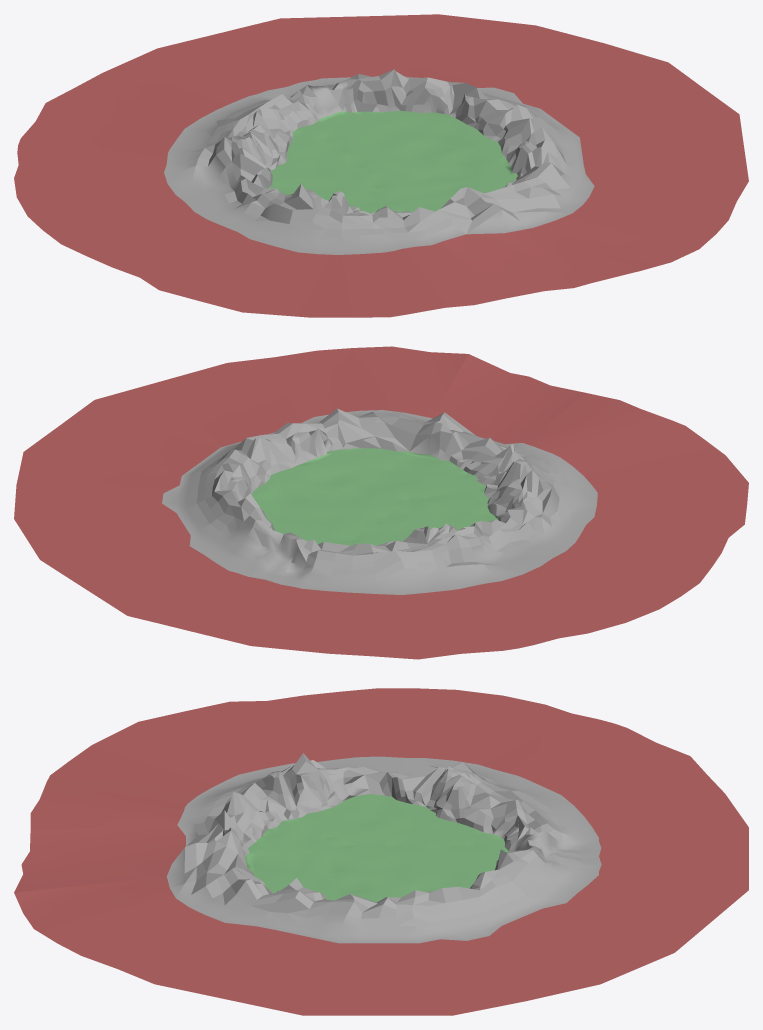
File: world_laboratory.fbx
The picture shows the model from 3 angles, top to bottom: view 1: azimuth 30°, elevation 25°; view 2: azimuth 150°, elevation 25°; view 3: azimuth 270°, elevation 25°; orthographic projection. The views are drawn at different scales.
Parts seen in each view (by area): view 1: world_laboratory; view 2: world_laboratory; view 3: world_laboratory.
Boxes of the visible parts, <box> form: world_laboratory: <box>14,14,748,317</box>; world_laboratory: <box>14,346,748,659</box>; world_laboratory: <box>14,688,748,1015</box>.
Size of the model in its own units: 45685 by 2718 by 43311.
